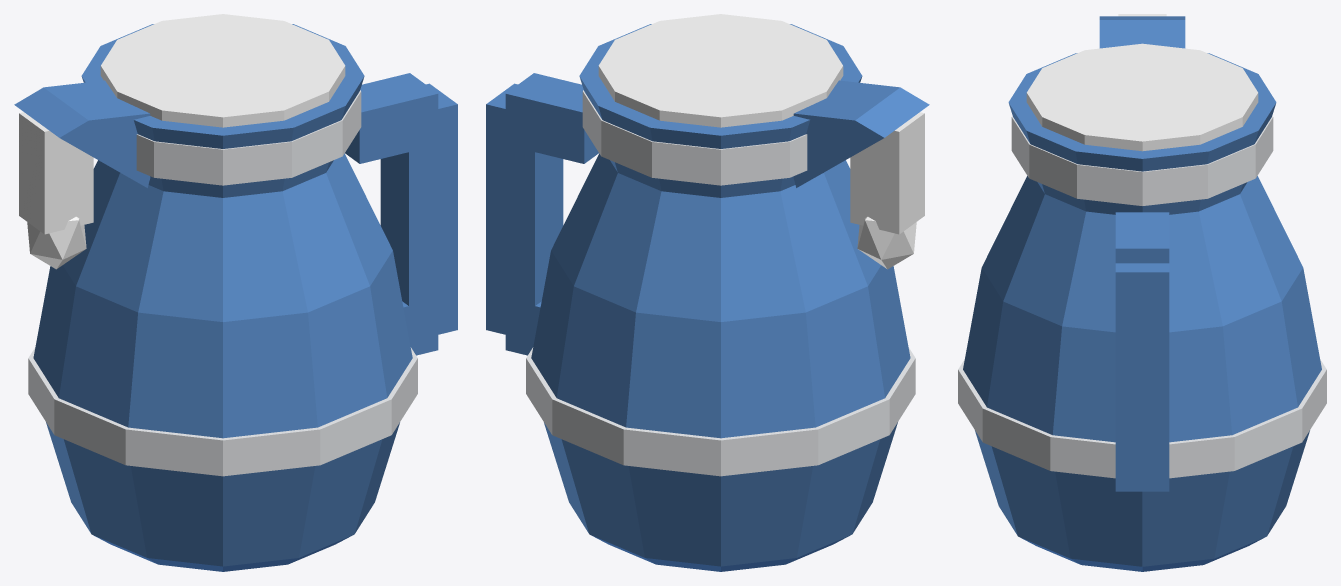
Rendered from Res_Milk.fbx.
The picture shows the model from 3 angles, left to right: view 1: azimuth 30°, elevation 25°; view 2: azimuth 150°, elevation 25°; view 3: azimuth 270°, elevation 25°; orthographic projection. The views are drawn at different scales.
Parts seen in each view (by area): view 1: Res_Milk; view 2: Res_Milk; view 3: Res_Milk.
Boxes of the visible parts, x1=… form: Res_Milk: x1=14, y1=14, x2=457, y2=571; Res_Milk: x1=486, y1=14, x2=929, y2=571; Res_Milk: x1=958, y1=14, x2=1326, y2=571.
Size of the model in its own units: 0.4218 by 0.44 by 0.344.
